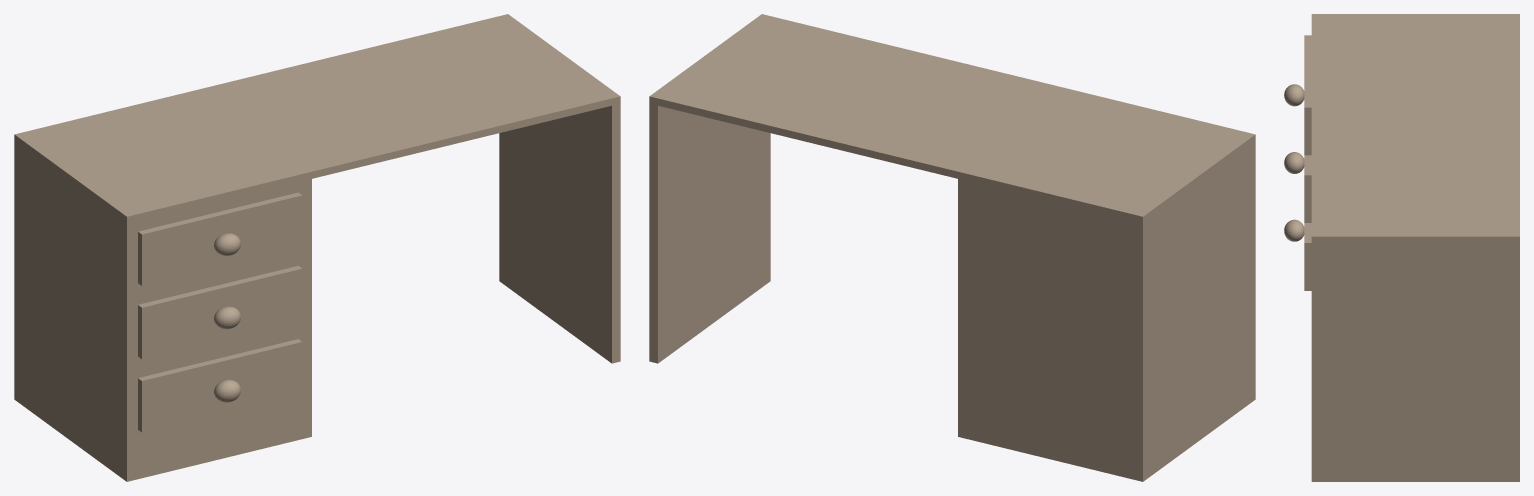
Rendered from Mighty Allis-Blad (3).glb.
The picture shows the model from 3 angles, left to right: view 1: azimuth 30°, elevation 25°; view 2: azimuth 150°, elevation 25°; view 3: azimuth 270°, elevation 25°; orthographic projection. The views are drawn at different scales.
Parts seen in each view (by area): view 1: Mesh_Mesh_head_geo.001_lambert2SG.001; view 2: Mesh_Mesh_head_geo.001_lambert2SG.001; view 3: Mesh_Mesh_head_geo.001_lambert2SG.001.
Boxes of the visible parts, <box> form: Mesh_Mesh_head_geo.001_lambert2SG.001: <box>14,14,620,481</box>; Mesh_Mesh_head_geo.001_lambert2SG.001: <box>649,14,1255,481</box>; Mesh_Mesh_head_geo.001_lambert2SG.001: <box>1284,14,1519,481</box>.
Bounding box in the file's own units: 0.0253 × 0.013 × 0.0113.
